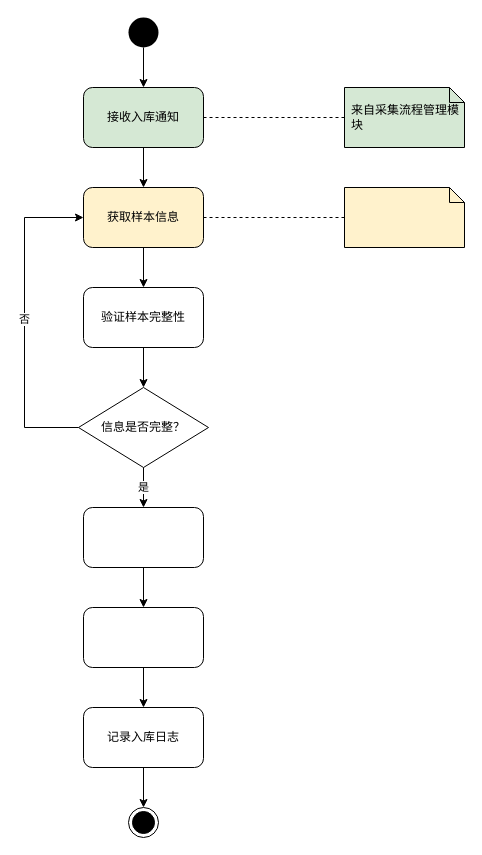
Image size: 482x855. Some labels were removed from this diagram. The shapes that lost their labels are listed below. From the top down, each one's centre as x and y in pixels, then its label:
At (x=404, y=217): "与样本信息管理模块交互".
At (x=143, y=537): "定位存储位置".
At (x=143, y=637): "执行入库操作".
